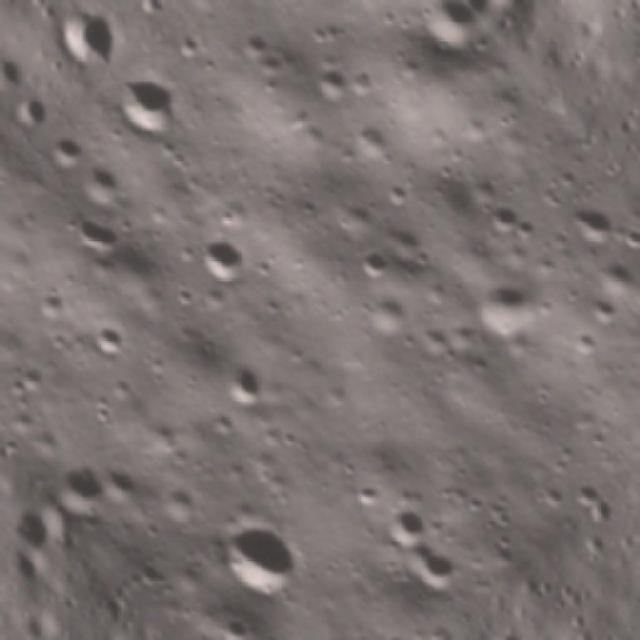crater: (195, 499, 314, 619), (457, 258, 552, 354), (99, 54, 192, 148), (42, 444, 130, 533), (400, 0, 497, 75), (55, 195, 138, 279), (182, 218, 262, 298), (396, 530, 473, 607), (361, 485, 437, 561), (294, 44, 368, 119), (473, 188, 541, 258), (552, 188, 618, 255), (68, 150, 132, 213), (212, 354, 276, 417), (344, 232, 405, 293), (34, 120, 91, 178), (203, 603, 260, 640)
